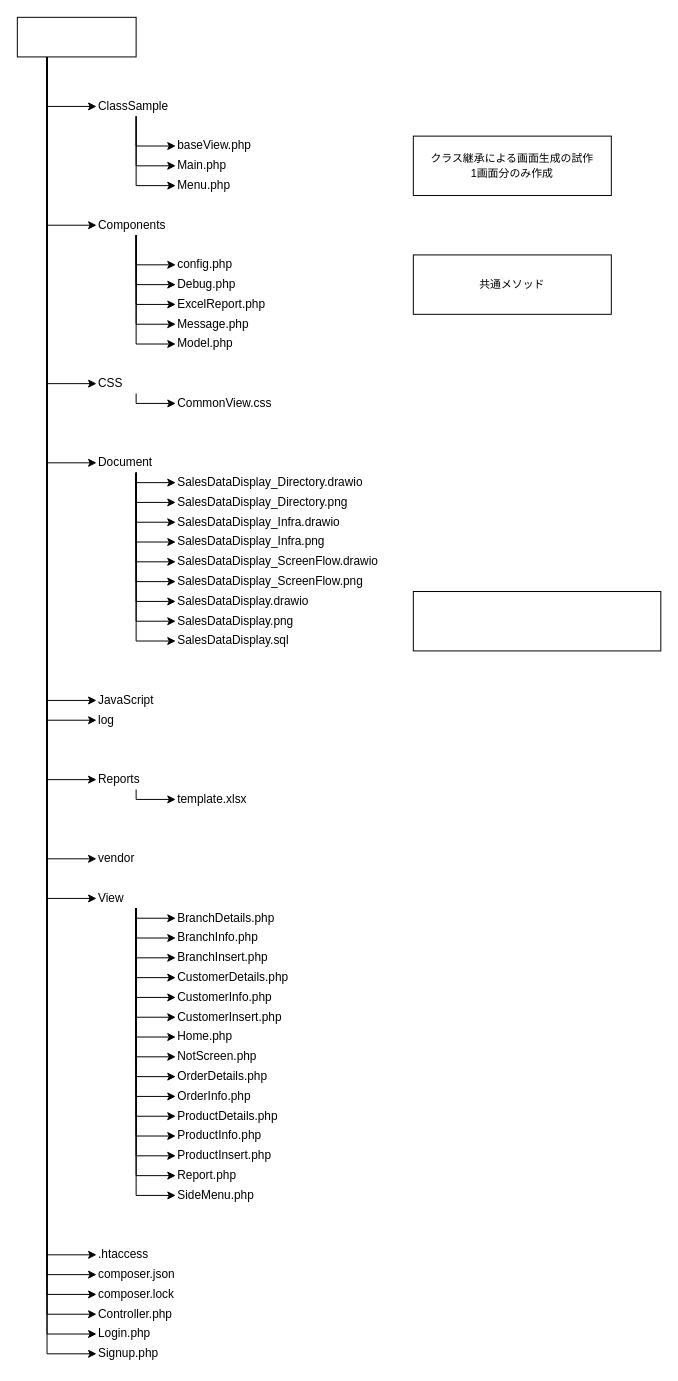
Image size: 678x1381. Some labels were removed from this diagram. The shapes that lost their labels are listed below. From the top down, each one's box as (x1, y1, x2, y2) in pixels, then its label:
(16, 16, 136, 57): SalesDataDisplay
(412, 591, 661, 651): SalesDataDisplay.sqlはDB構成を記述している。
